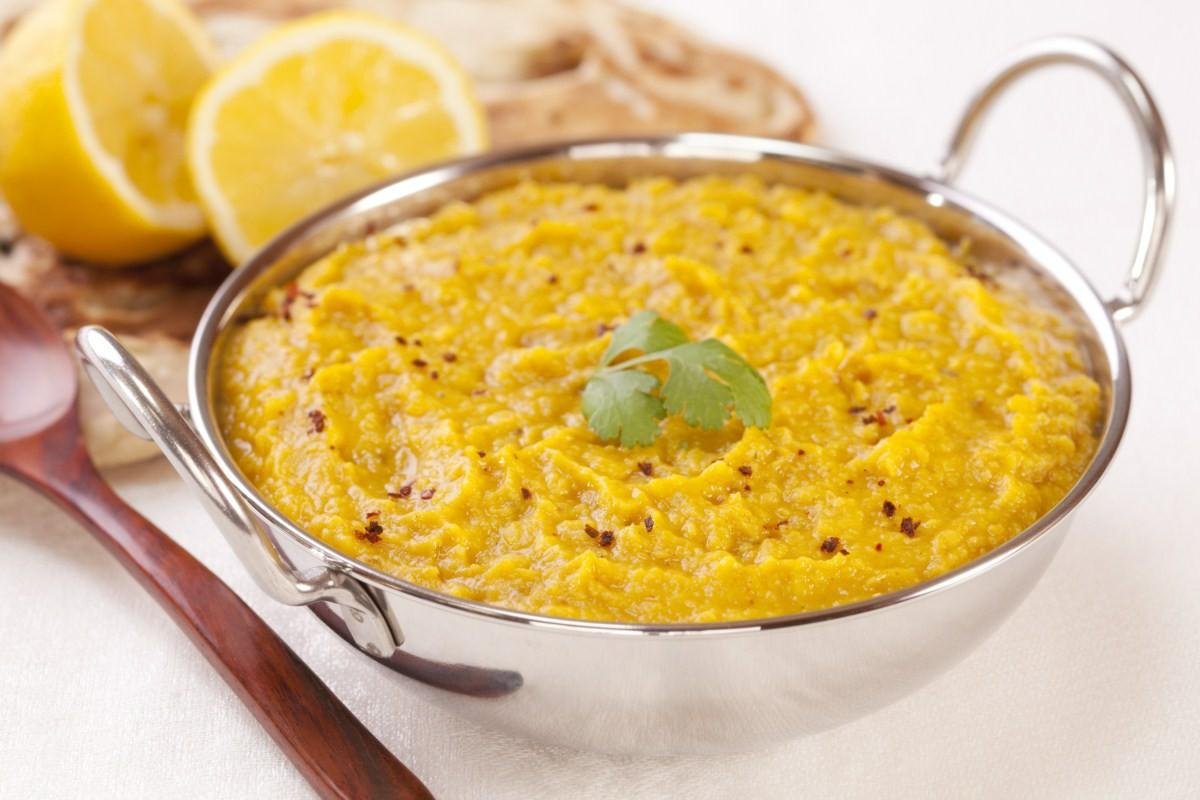Dal: (222, 172, 1099, 619)
